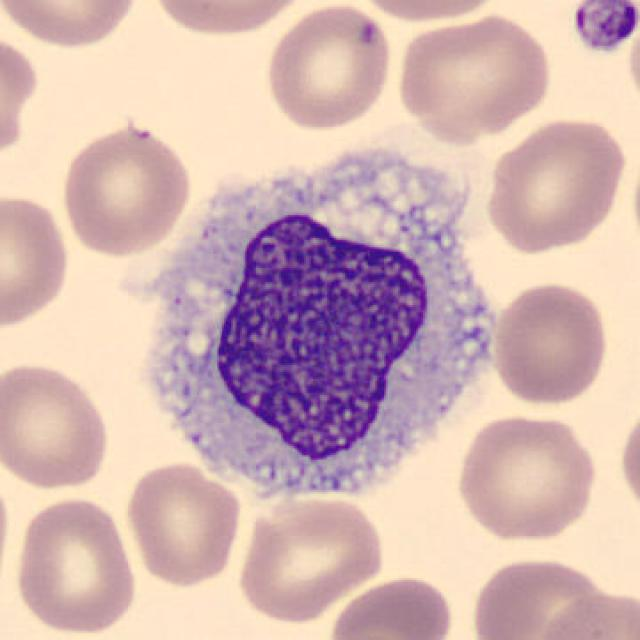Monocyte: (121, 138, 512, 516)
Platelets: (569, 0, 640, 56)
RBC: (393, 9, 555, 143), (480, 112, 629, 255), (235, 490, 388, 624), (451, 409, 601, 545), (57, 118, 195, 259), (10, 492, 140, 638), (259, 2, 396, 134), (122, 458, 244, 589), (489, 277, 611, 407), (0, 358, 114, 494), (468, 552, 618, 640), (0, 190, 73, 330), (327, 573, 457, 640), (0, 0, 144, 51), (146, 0, 313, 39), (528, 587, 640, 640), (0, 28, 41, 166), (350, 0, 513, 26), (615, 396, 640, 524), (627, 121, 640, 273), (624, 9, 640, 125), (0, 463, 12, 601)
